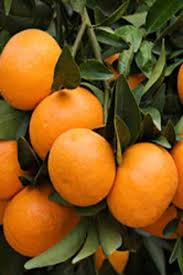orange: (4, 186, 82, 257), (114, 140, 178, 226), (28, 89, 105, 158), (3, 25, 62, 111), (47, 134, 115, 208)
